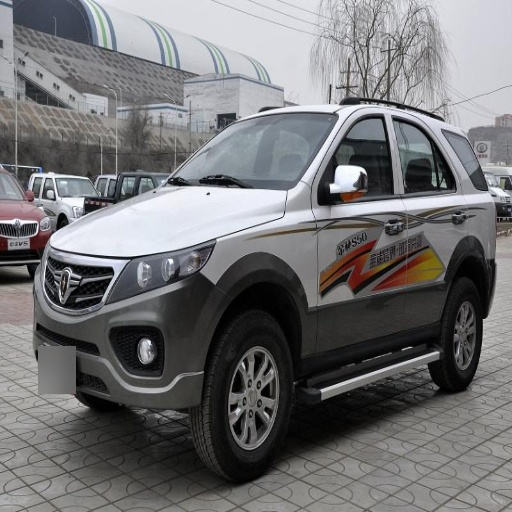front_bumper: (33, 239, 221, 409)
front_glass: (169, 114, 336, 187)
front_left_door: (314, 111, 405, 363)
